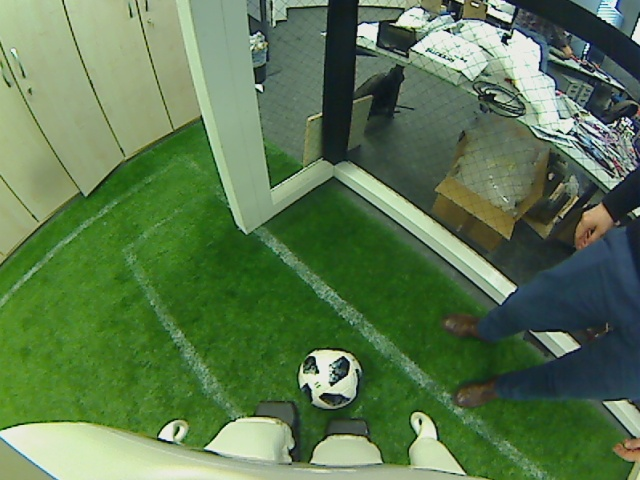ball: (297, 343, 361, 410)
